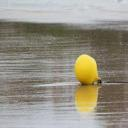yellow: (74, 54, 98, 85)
